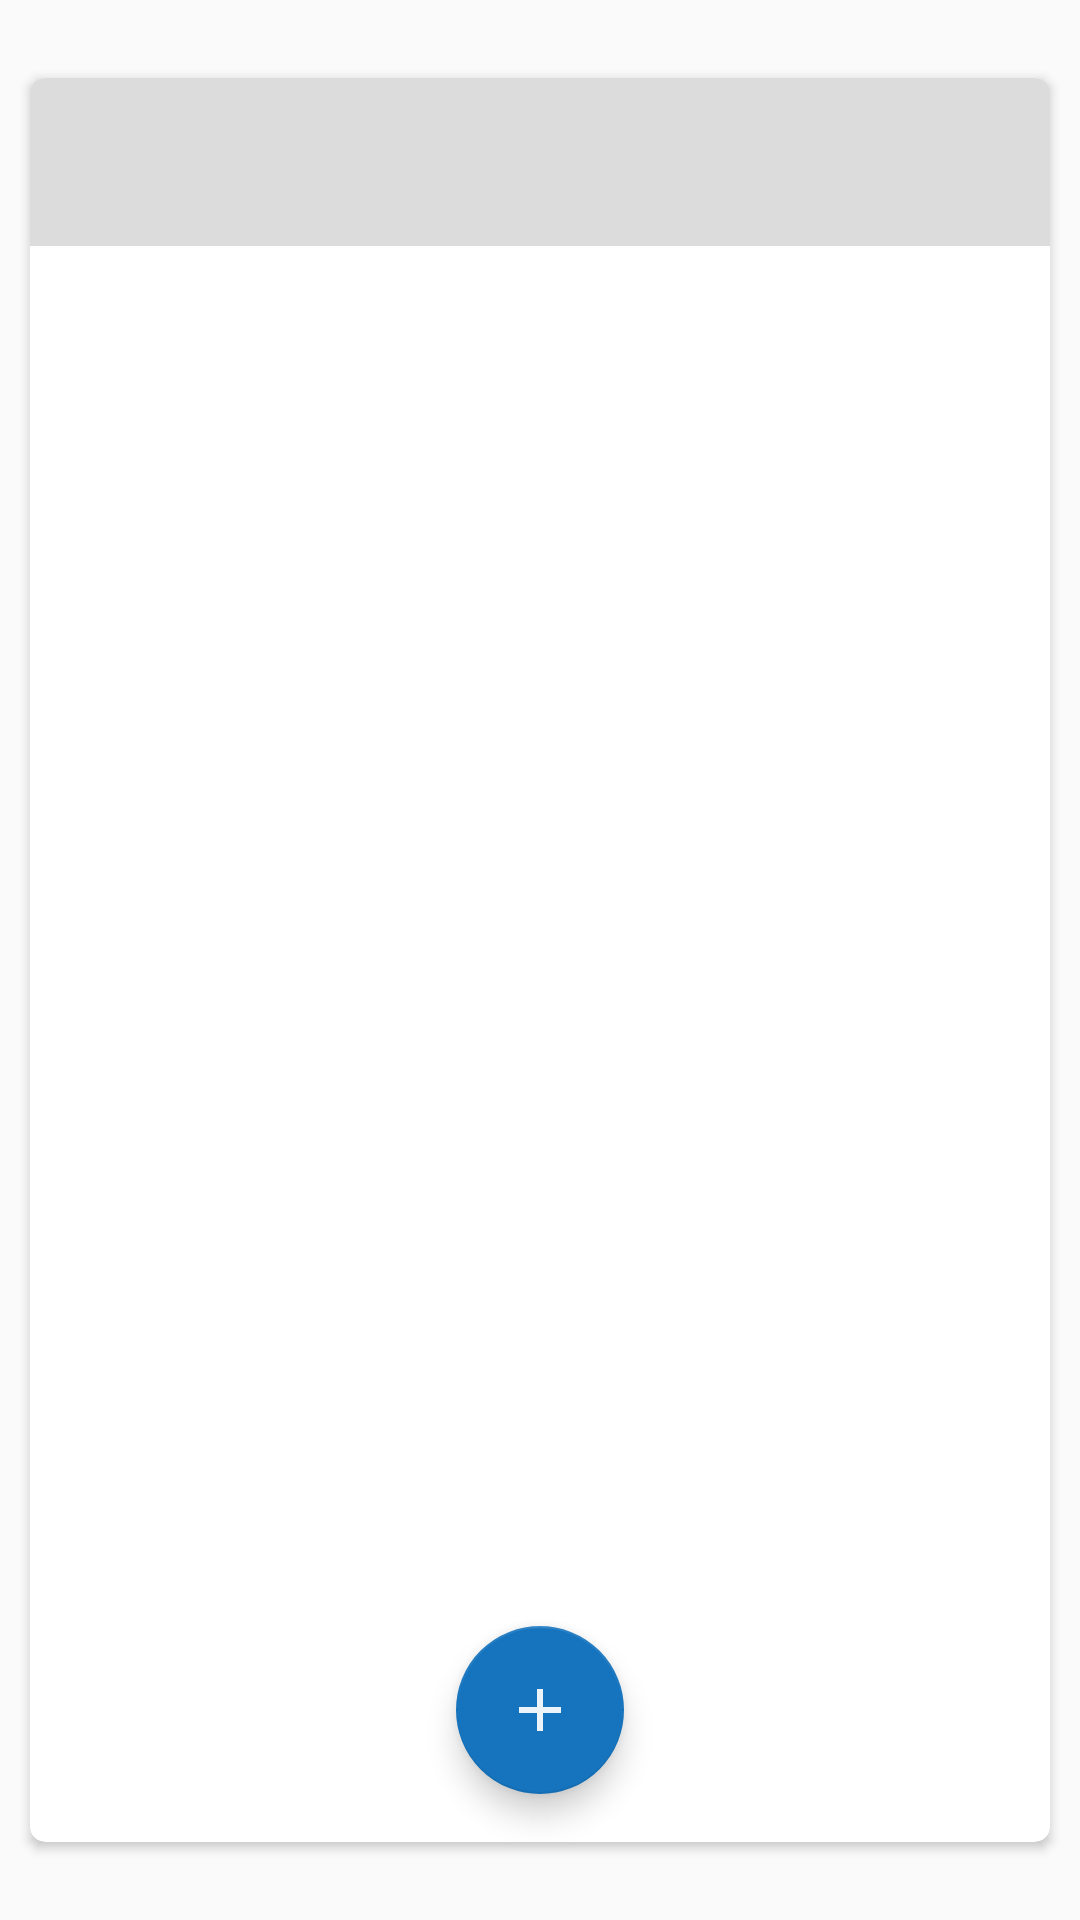

Screen size 1080 x 1920. Icon name, then its box in pixels as (x1,y1,x2,y2):
add: (456,1626,624,1794)
